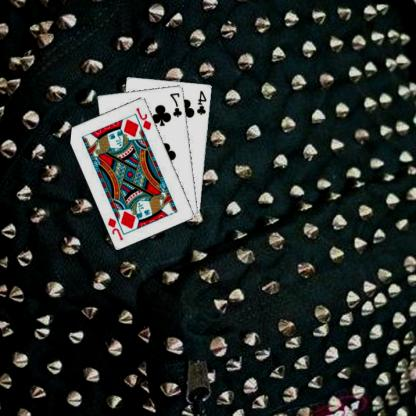4C: (196, 88, 210, 116)
7C: (169, 90, 185, 118)
JD: (107, 215, 126, 241), (136, 105, 154, 131)
